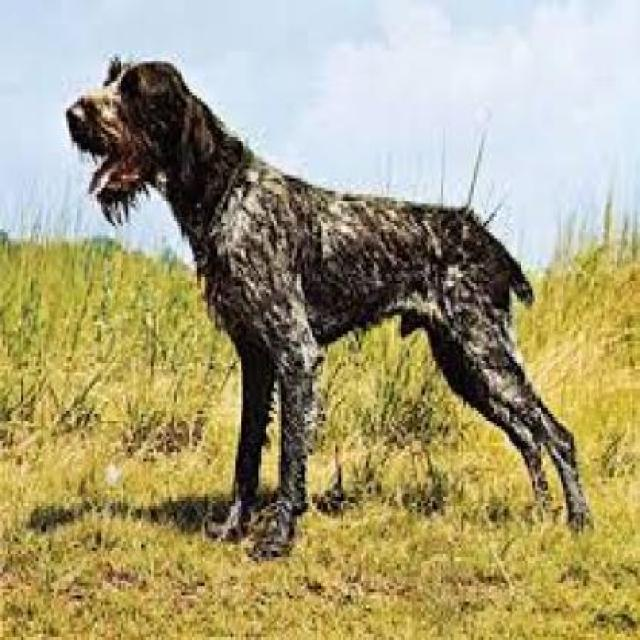animals: (60, 42, 594, 555)
